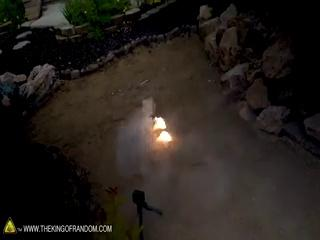Fire: (151, 118, 177, 147)
